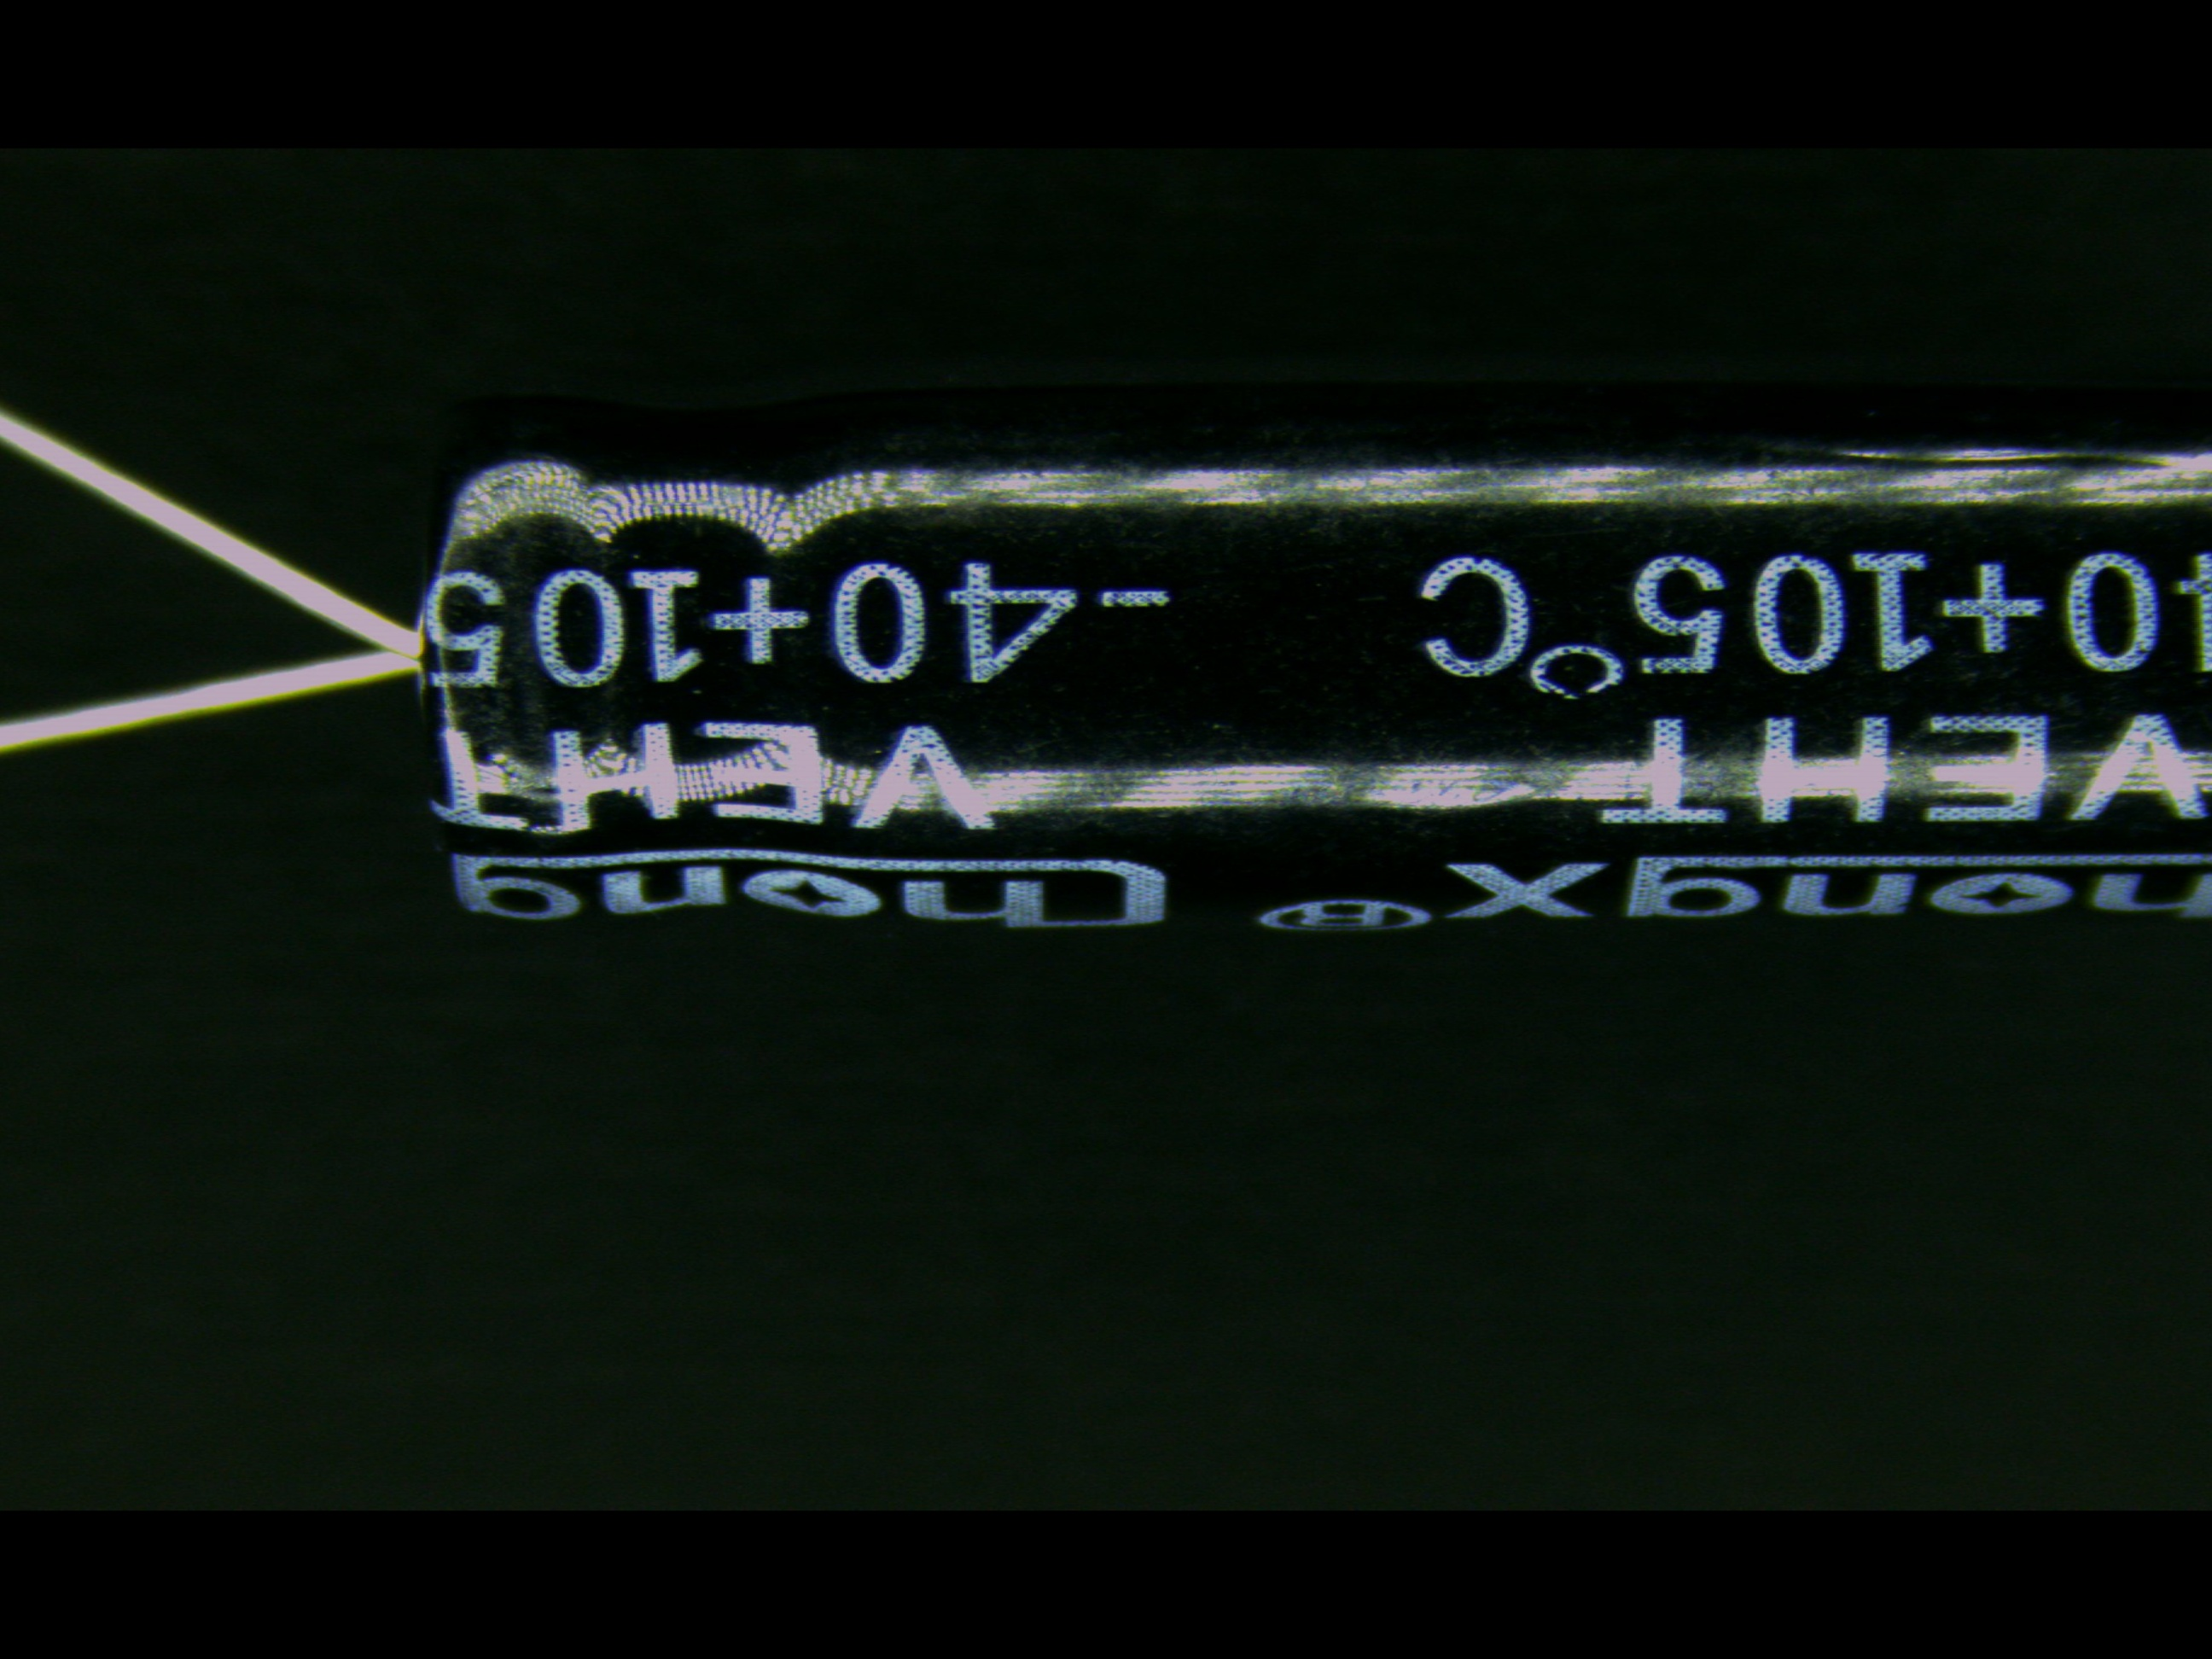c3: (0, 392, 2212, 927)
